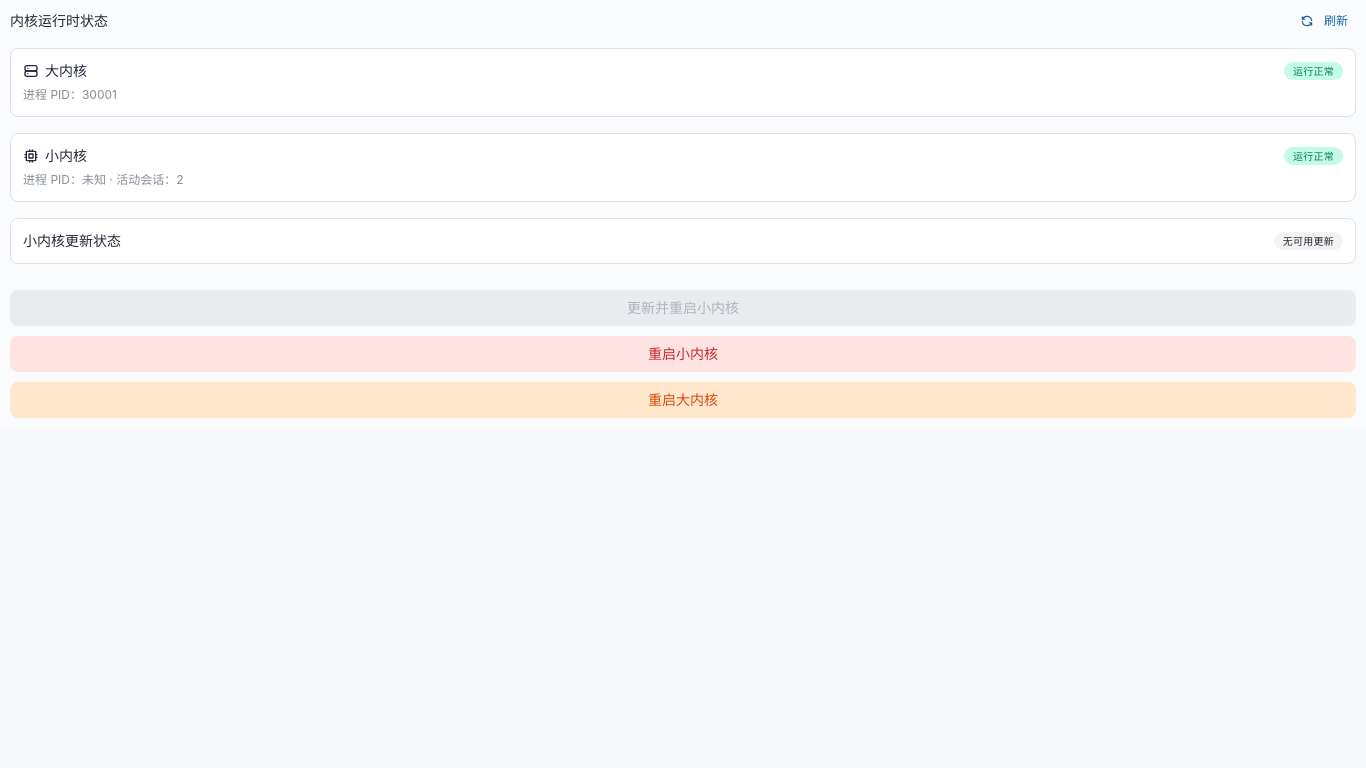
KernelManagementPanel › warns about active sessions when daemon has active sessions
This screenshot has width=1366, height=768.
Click the button "重启小内核" at (683, 354), box [10,336,1356,372]
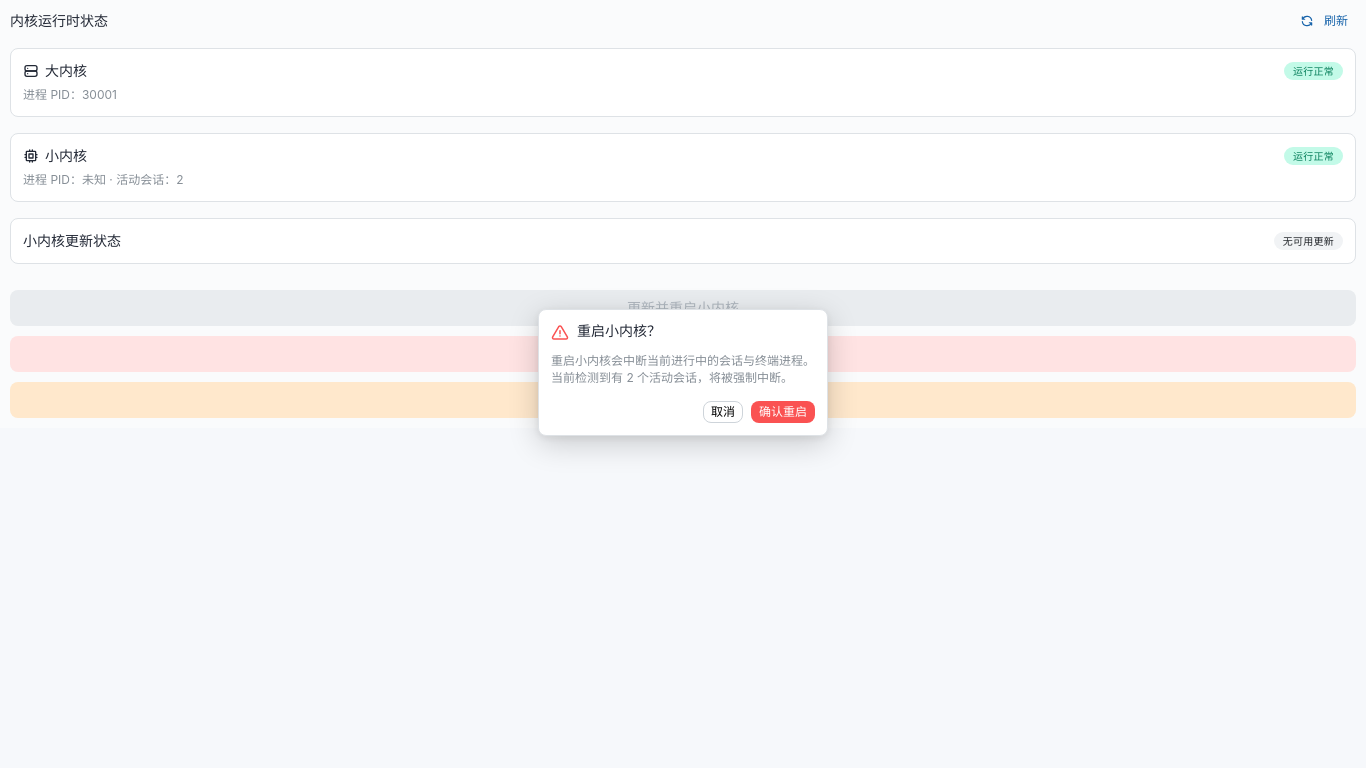
Expected: the dialog "重启小内核？" shows "中断", [538,309,828,436]
Expected: the dialog "重启小内核？" shows "2 个活动会话", [551,353,815,385]
